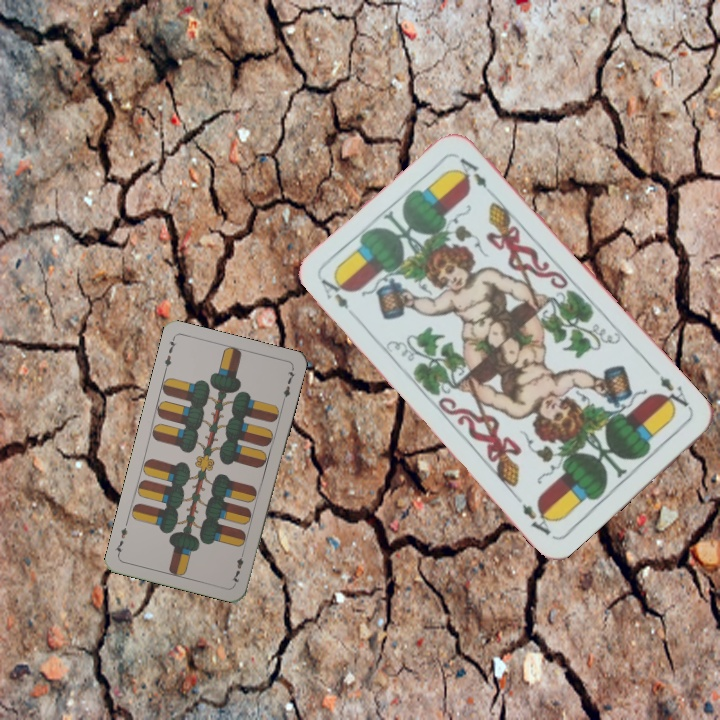E7: (227, 547, 246, 587), (160, 334, 179, 374)
EA: (655, 372, 695, 415), (317, 272, 352, 312)
